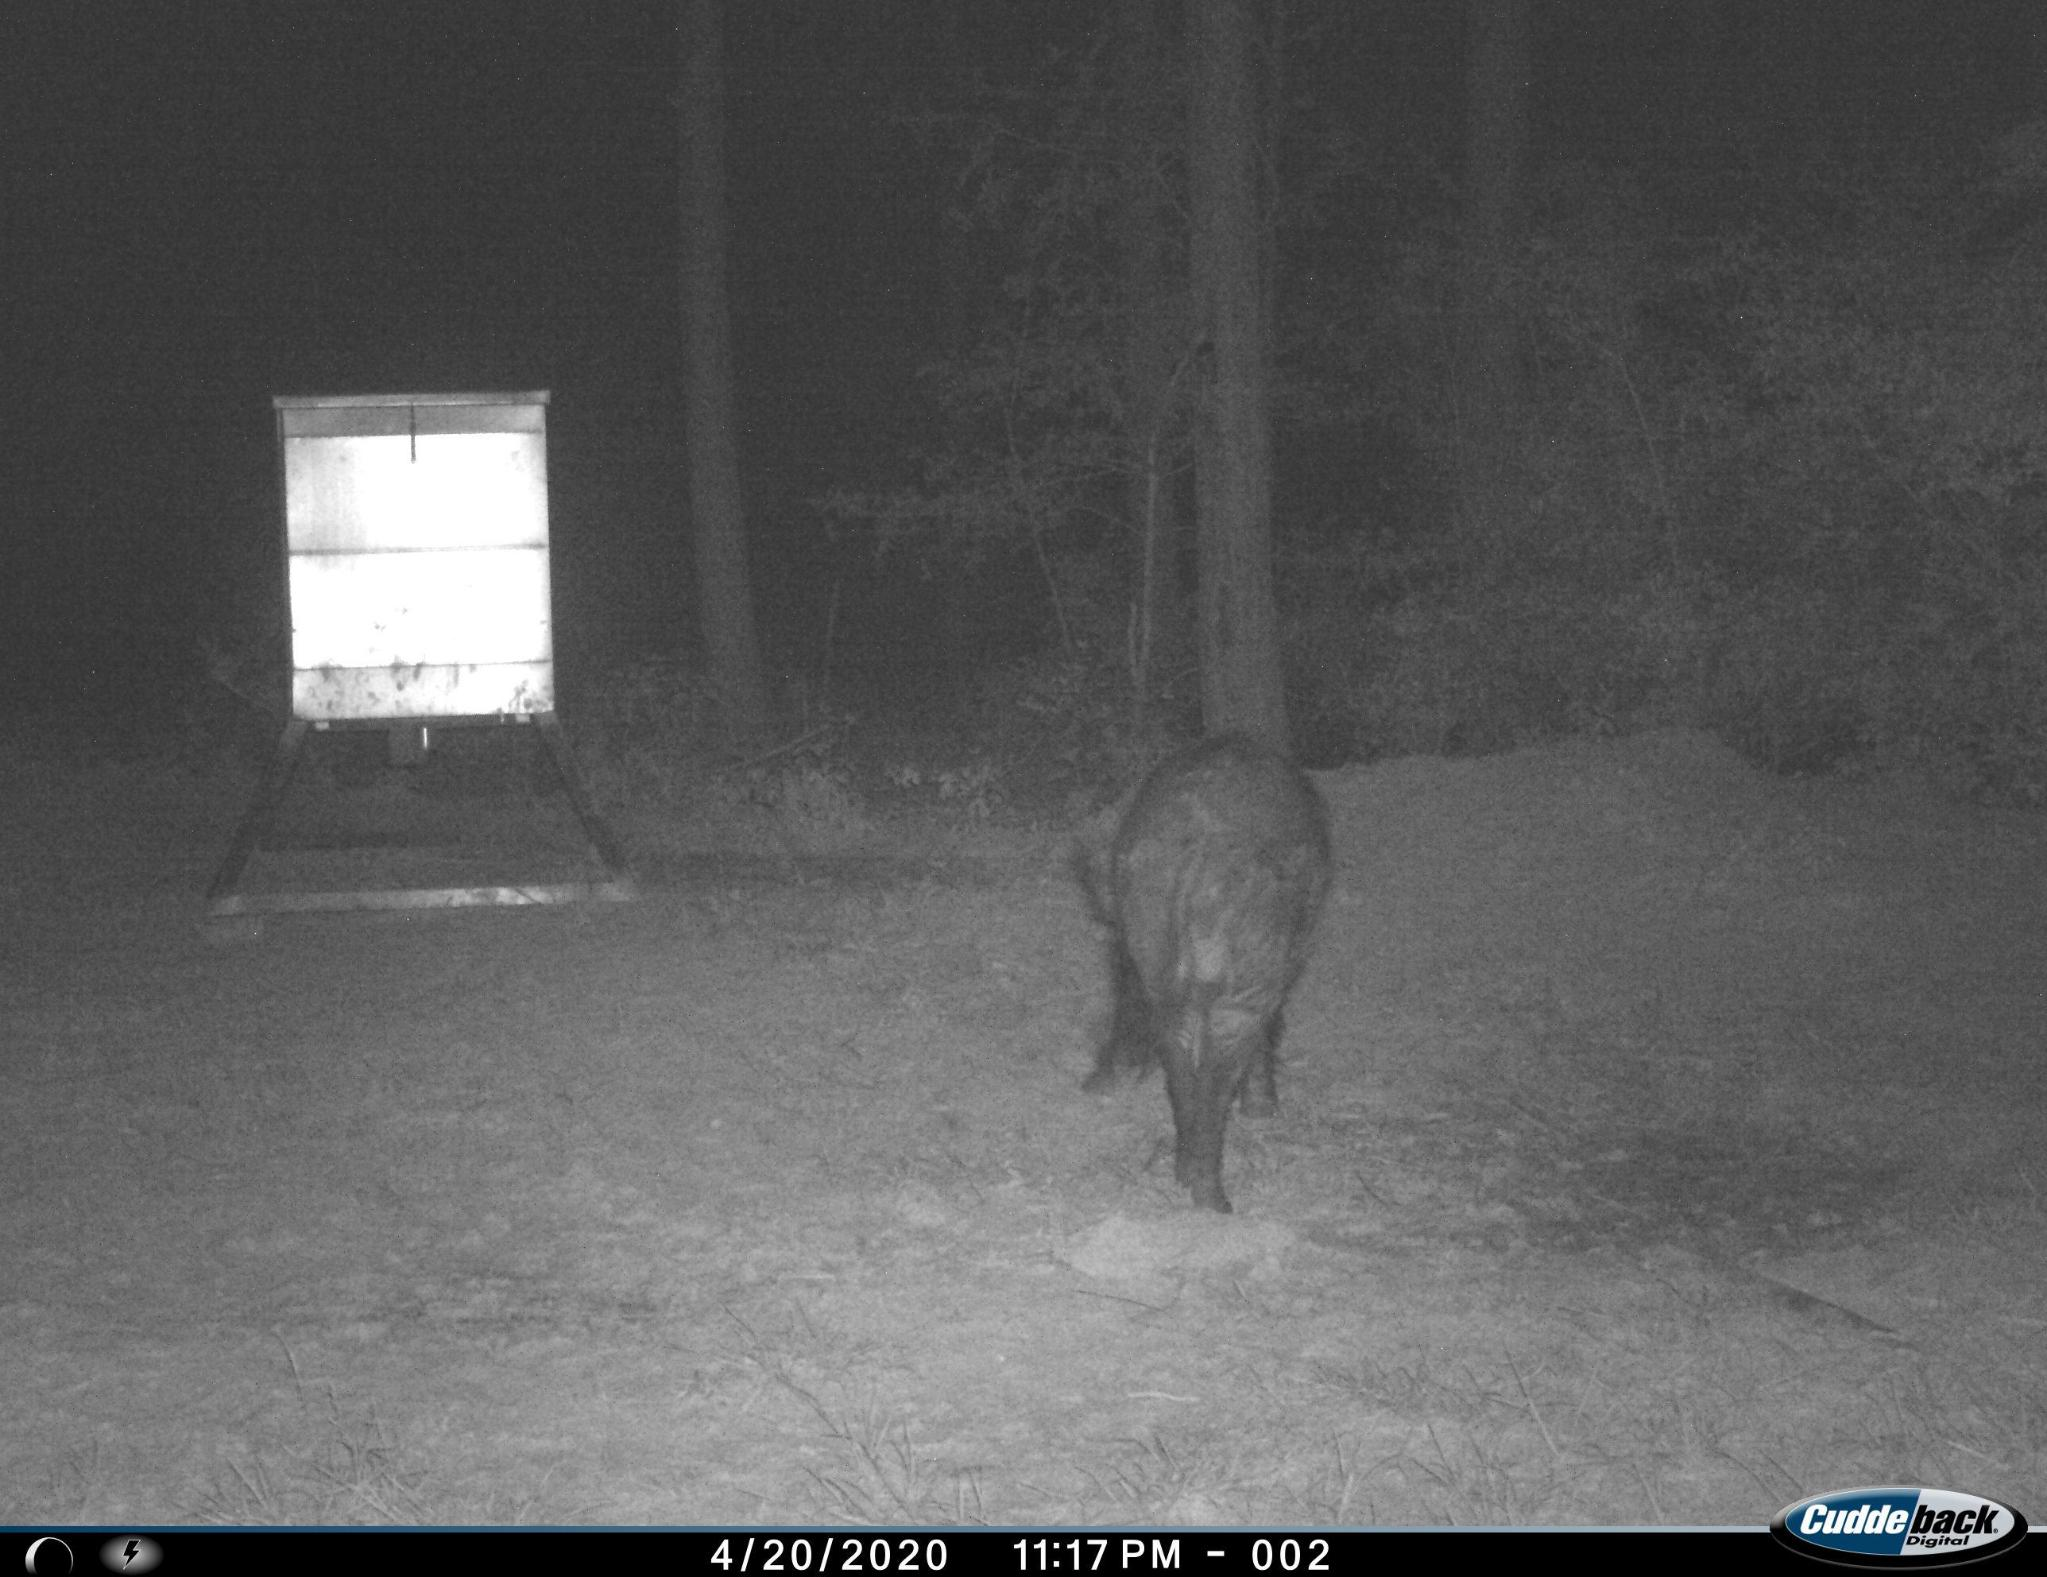Hog: (1067, 724, 1340, 1234)
